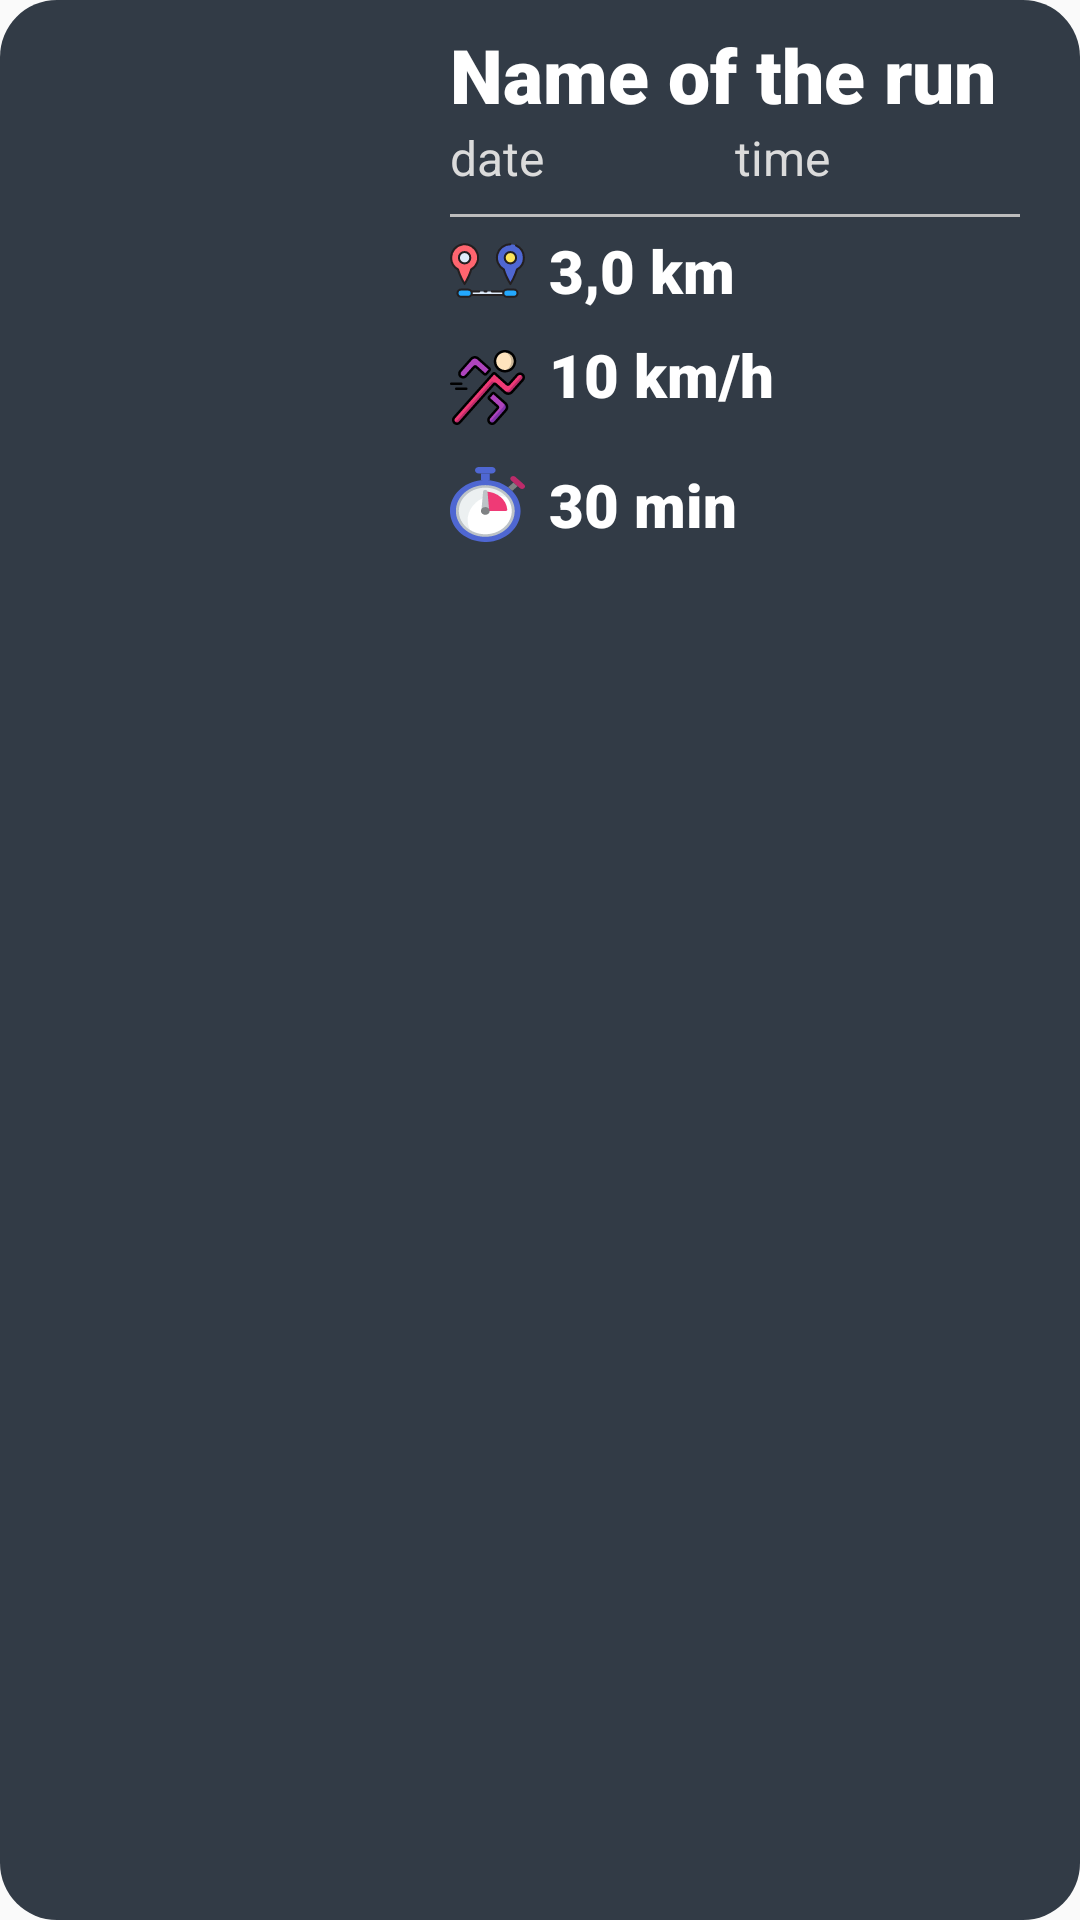

Where to tap for icons on this 1080 x 1920 app screen, as [x,y]:
distance: [487,270]
speed: [487,387]
stopwatch: [487,504]
